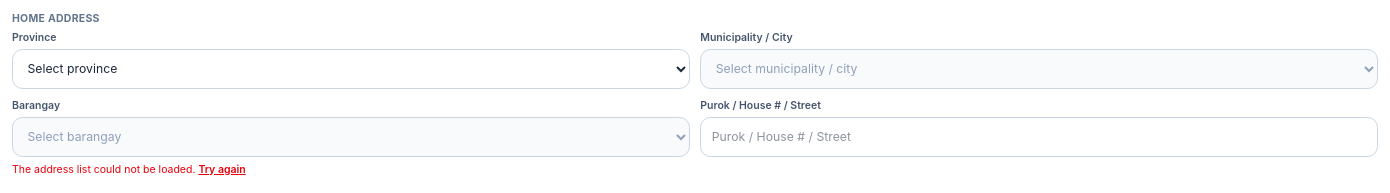
Scenario: AddressFields (Philippine address lists) › says so, and can try again, when the list cannot be loaded
Expected: the message "The address list could not be loaded. Try again" is shown, [12,162,246,176]
Click the button "Try again" at point(222, 170), box [198,162,246,176]
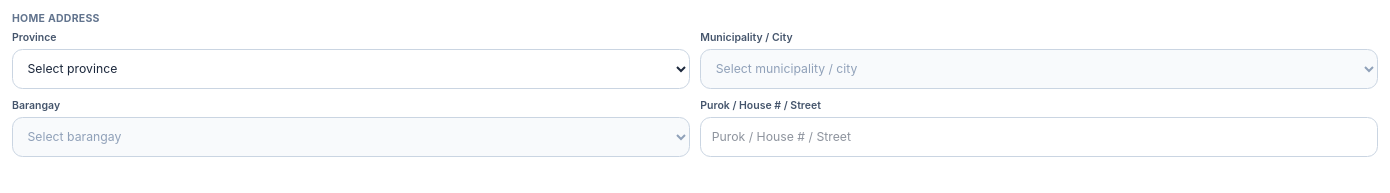
Now the message "The address list could not be loaded. Try again" is gone
